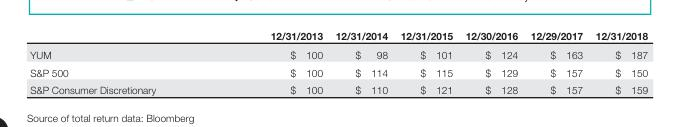table: (29, 29, 647, 95)
table column: (29, 29, 212, 95), (212, 29, 328, 95), (328, 29, 393, 95), (393, 29, 458, 95), (458, 29, 523, 95), (523, 29, 588, 95), (588, 29, 647, 95)
table column header: (29, 29, 647, 44)
table row: (29, 44, 647, 63), (29, 63, 647, 80), (29, 29, 647, 44), (29, 80, 647, 95)
